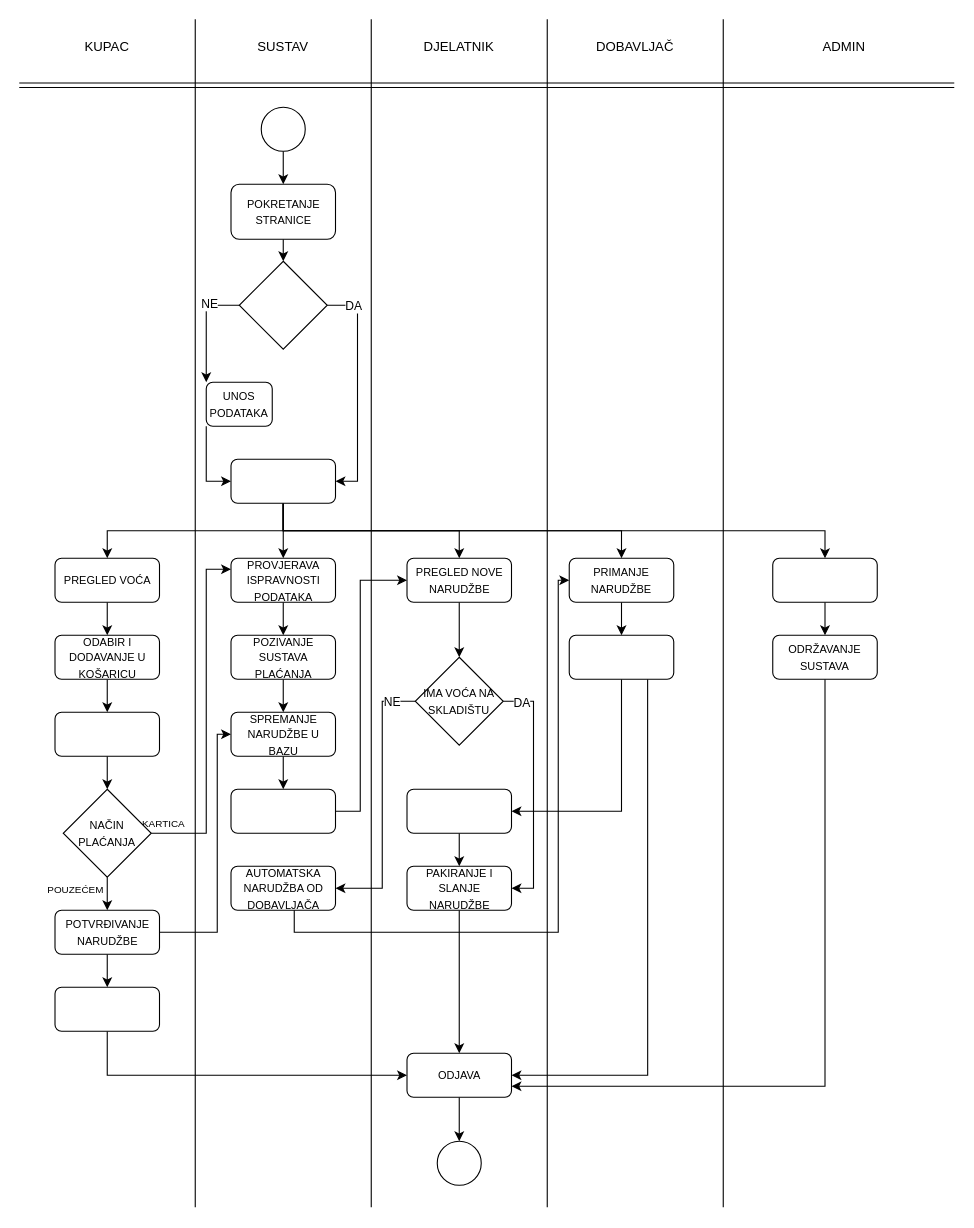
Image size: 974x1228. Some labels were removed from this diagram. Here are the shapes that lost their labels. From the top down, the centre of each, then its label:
At point (282, 304): "REGISTRACIJA".
At point (283, 480): "PRIJAVA".
At point (824, 579): "UPRAVLJANJE KORISNICIMA".
At point (621, 656): "ISPORUKA".
At point (107, 733): "UNOS PODATAKA ZA DOSTAVU".
At point (283, 810): "OBAVJEŠTAVA ZAPOSLENIKA O NARUDŽBI".
At point (459, 810): "PRIJEM ROBE I PROVJERA KVALITETE".
At point (107, 1008): "PREGLED POVJESTI KUPNJE".
